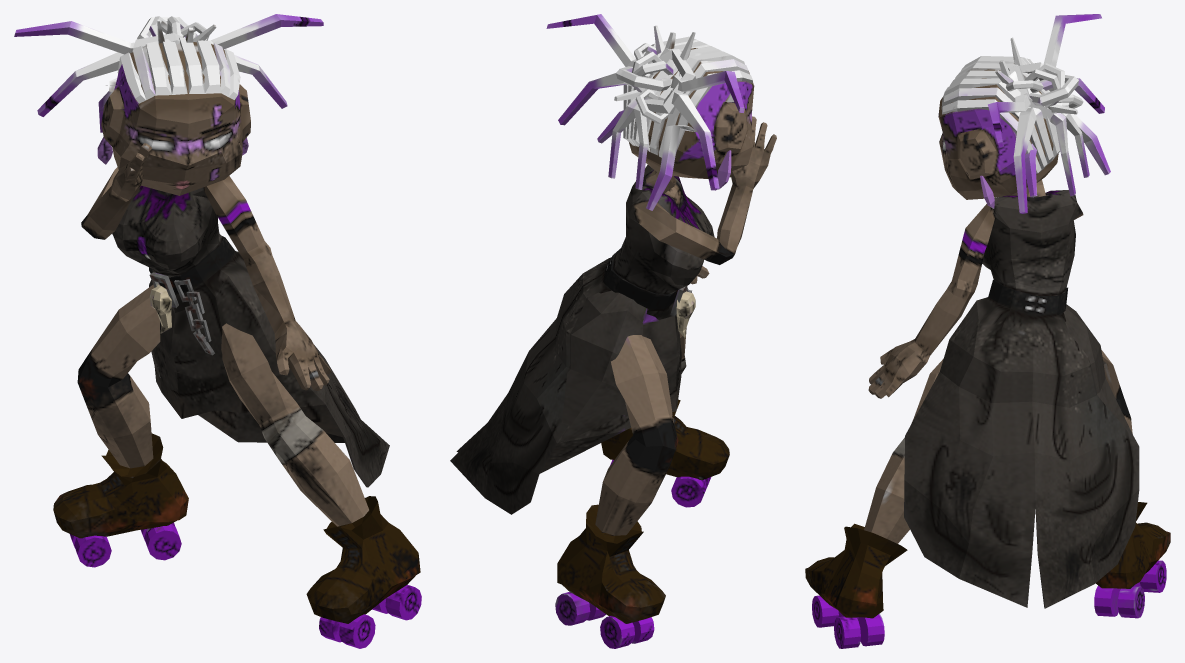
Rendered from bruja_000026.obj.
3 renders of one model, left to right at view 1: azimuth 30°, elevation 25°; view 2: azimuth 150°, elevation 25°; view 3: azimuth 270°, elevation 25°, orthographic. The views are drawn at different scales.
Visible parts, largest first — view 1: Bruja_Plane.001; view 2: Bruja_Plane.001; view 3: Bruja_Plane.001.
Boxes of the visible parts, bbox=[...] form: Bruja_Plane.001: bbox=[14, 14, 421, 648]; Bruja_Plane.001: bbox=[450, 14, 776, 648]; Bruja_Plane.001: bbox=[805, 14, 1170, 648].
Bounding box in the file's own units: 9.26 × 15.44 × 9.24.
